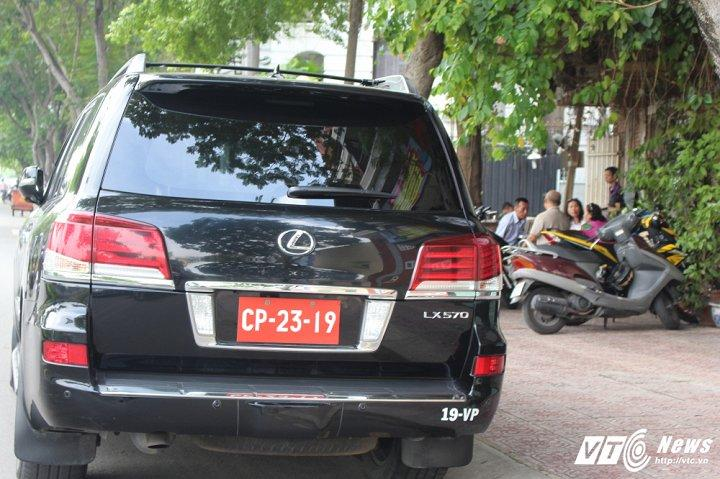plate: (232, 290, 340, 348)
